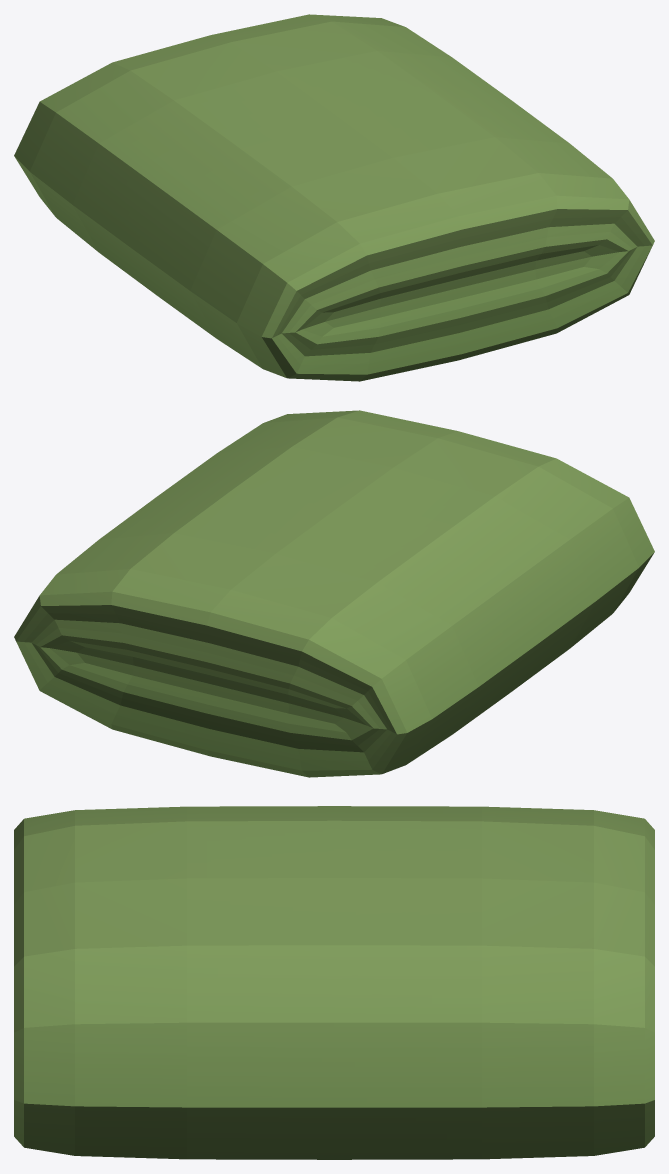
File: Clothes1_C3.fbx
3 renders of one model, top to bottom at view 1: azimuth 30°, elevation 25°; view 2: azimuth 150°, elevation 25°; view 3: azimuth 270°, elevation 25°, orthographic. The views are drawn at different scales.
Parts seen in each view (by area): view 1: Clothes1_C3; view 2: Clothes1_C3; view 3: Clothes1_C3.
Part boxes in pixels (<box>): Clothes1_C3: <box>14,14,654,381</box>; Clothes1_C3: <box>14,410,654,777</box>; Clothes1_C3: <box>14,806,654,1159</box>.
Bounding box in the file's own units: 21.86 × 8.52 × 23.8.
